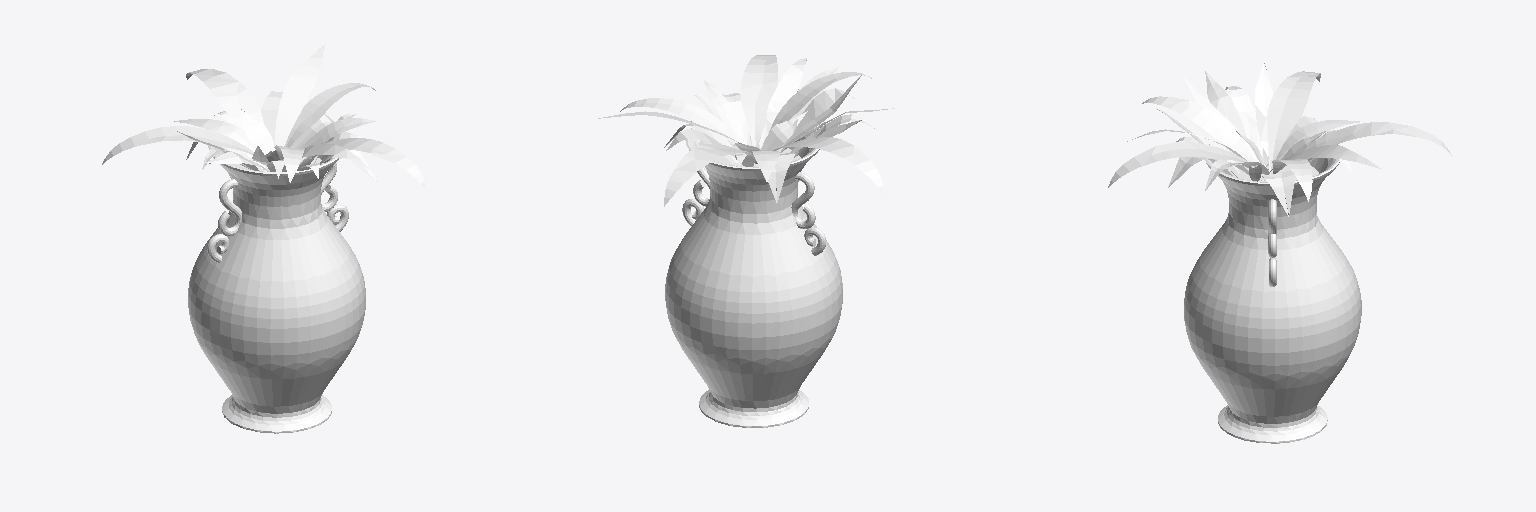
Rendered from Plant.obj.
3 renders of one model, left to right at view 1: azimuth 30°, elevation 25°; view 2: azimuth 150°, elevation 25°; view 3: azimuth 270°, elevation 25°, orthographic.
Parts seen in each view (by area): view 1: pot_NurbsPath.001, leaves_Plane.011; view 2: pot_NurbsPath.001, leaves_Plane.011; view 3: pot_NurbsPath.001, leaves_Plane.011.
Part boxes in pixels (left/top/right/bottom): pot_NurbsPath.001: left=188, top=143, right=365, bottom=433; leaves_Plane.011: left=102, top=44, right=425, bottom=189; pot_NurbsPath.001: left=665, top=120, right=842, bottom=427; leaves_Plane.011: left=598, top=55, right=894, bottom=206; pot_NurbsPath.001: left=1184, top=135, right=1361, bottom=443; leaves_Plane.011: left=1108, top=63, right=1451, bottom=216.
Size of the model in its own units: 28.98 by 32.36 by 31.99.